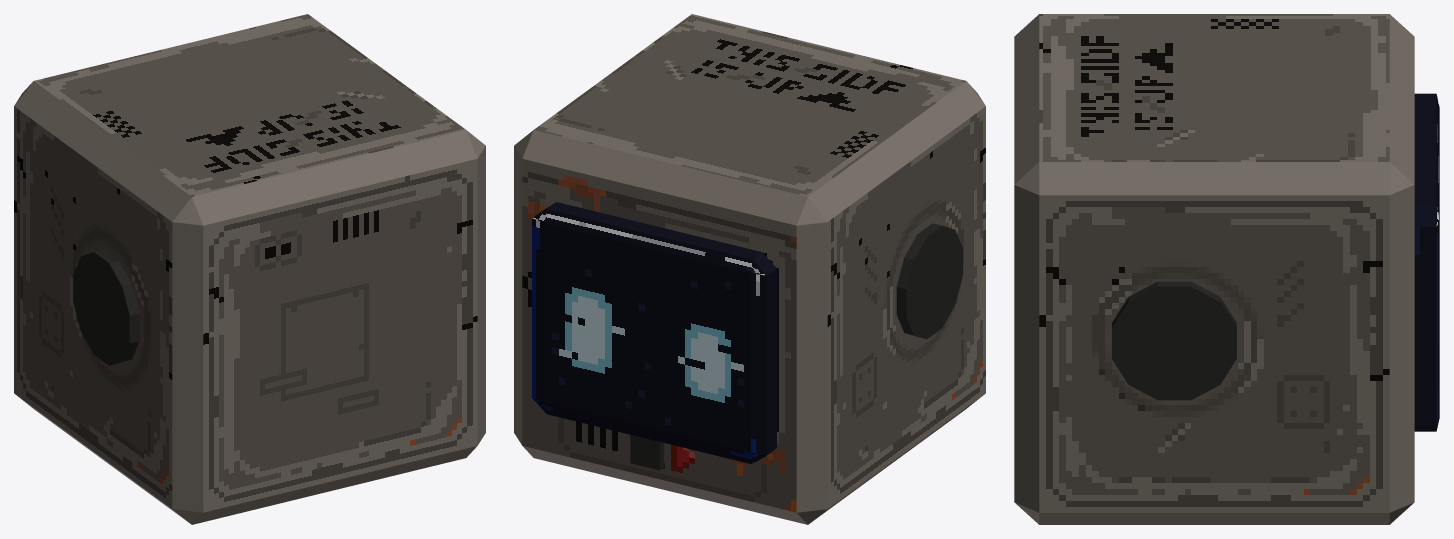
Rendered from bot.gltf.
3 renders of one model, left to right at view 1: azimuth 30°, elevation 25°; view 2: azimuth 150°, elevation 25°; view 3: azimuth 270°, elevation 25°, orthographic. The views are drawn at different scales.
Parts seen in each view (by area): view 1: bot_mesh; view 2: bot_mesh; view 3: bot_mesh.
Boxes of the visible parts, bbox=[...] form: bot_mesh: bbox=[14, 14, 485, 524]; bot_mesh: bbox=[514, 14, 985, 524]; bot_mesh: bbox=[1014, 14, 1439, 524].
Size of the model in its own units: 1.06 by 1 by 1.06.
Materials: 1 (1 with a texture image).
